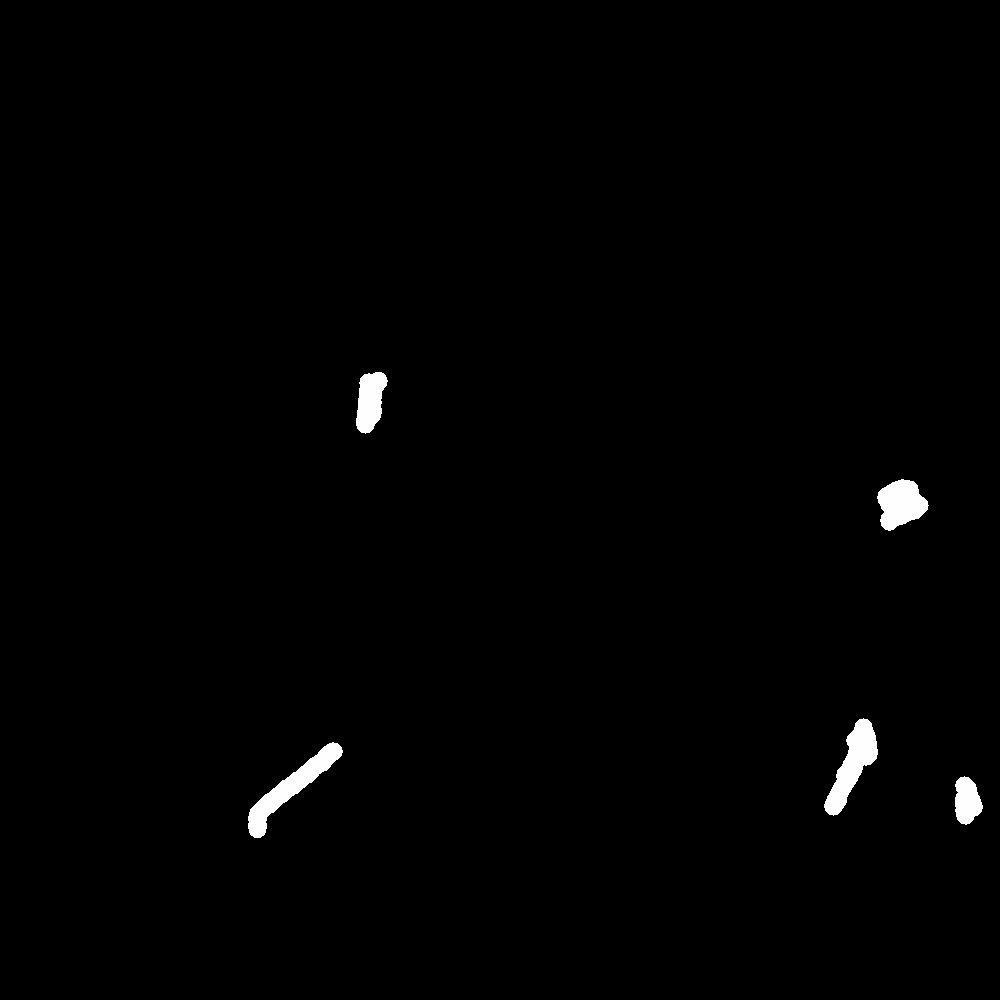illegal: (831, 713, 885, 778), (898, 498, 924, 518), (361, 393, 381, 410)
